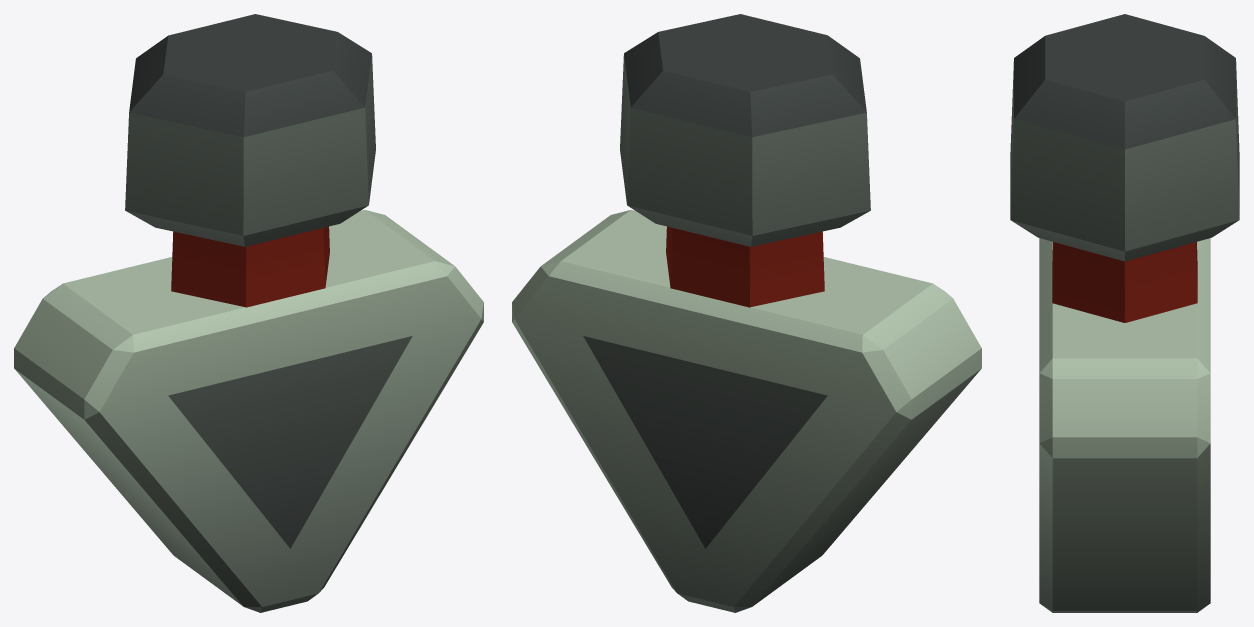
File: decor_018.fbx
The picture shows the model from 3 angles, left to right: view 1: azimuth 30°, elevation 25°; view 2: azimuth 150°, elevation 25°; view 3: azimuth 270°, elevation 25°; orthographic projection. The views are drawn at different scales.
Visible parts, largest first — view 1: decor.018; view 2: decor.018; view 3: decor.018.
Boxes of the visible parts, x1,y1,x2,y2 form: decor.018: (14, 14, 483, 612); decor.018: (512, 14, 981, 612); decor.018: (1010, 14, 1239, 612).
Size of the model in its own units: 20.22 by 25.55 by 9.76.
